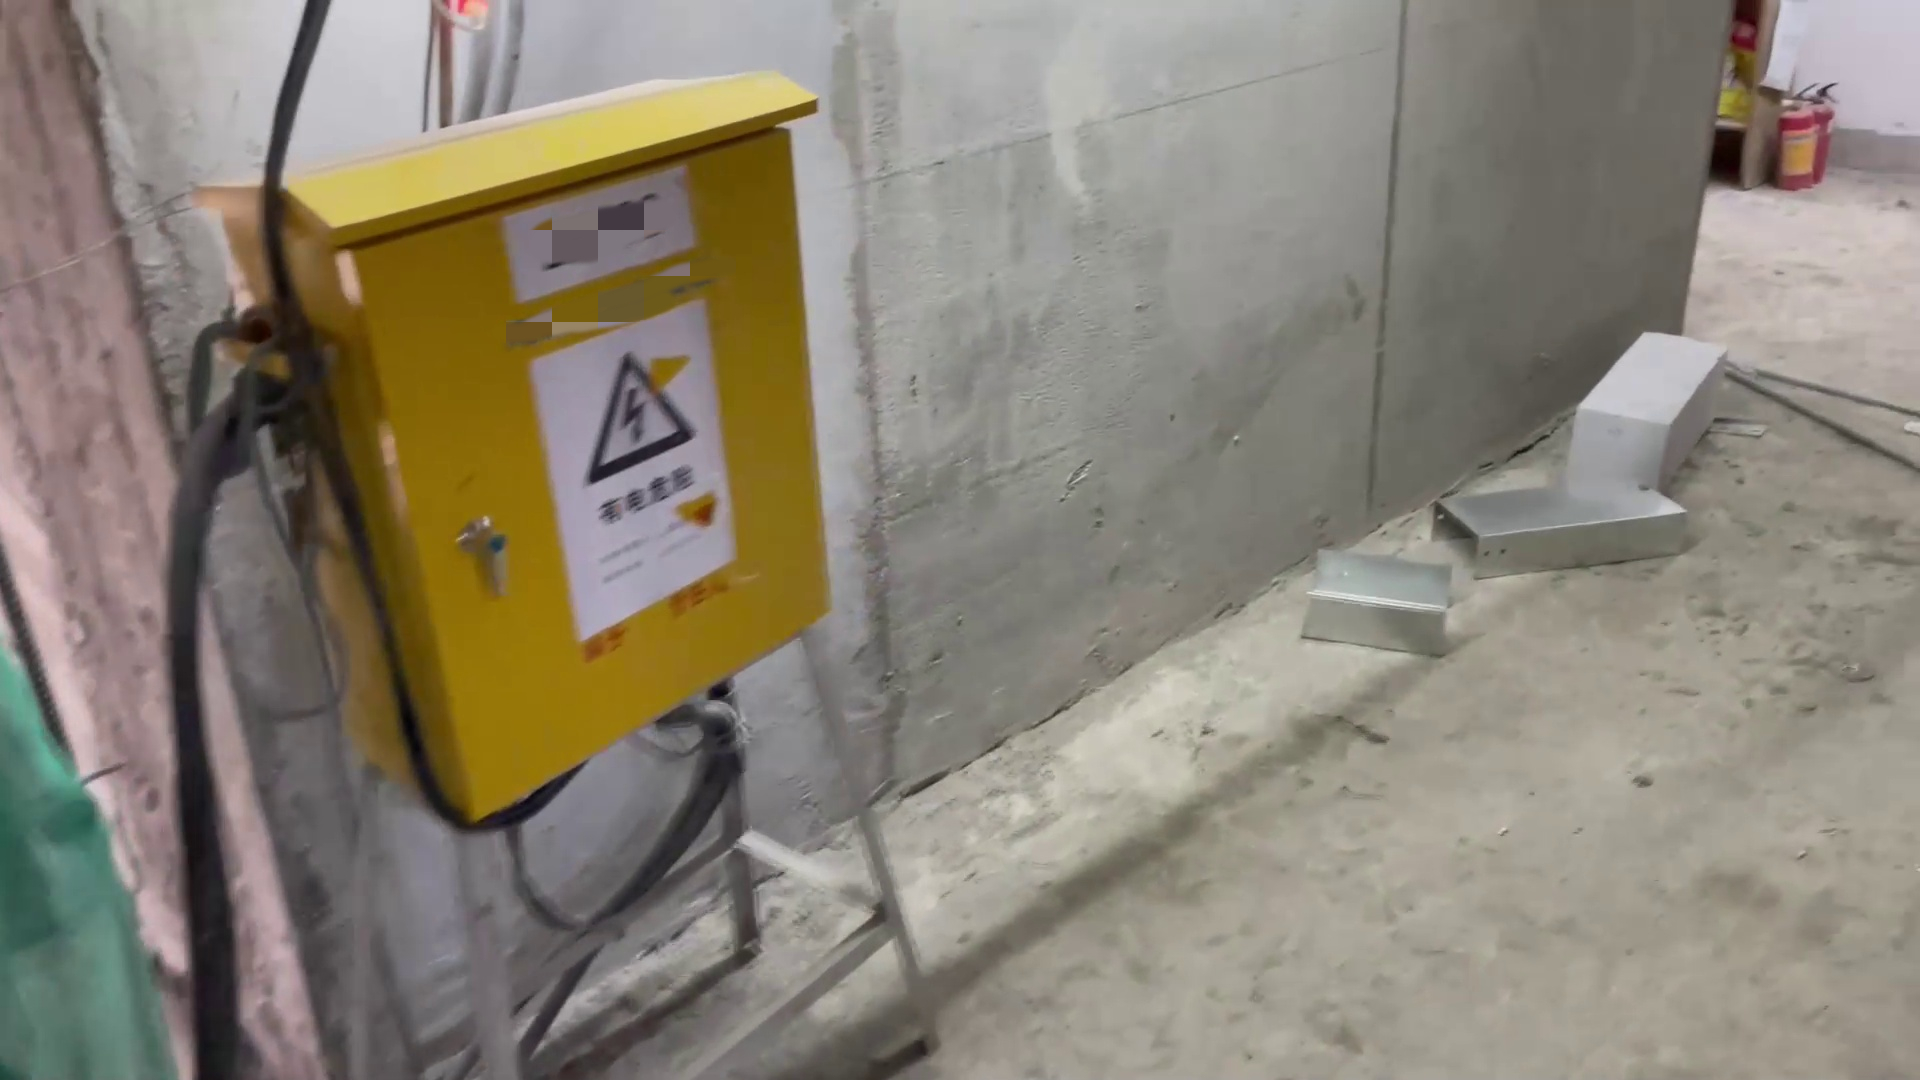ebox: (165, 65, 968, 1080)
